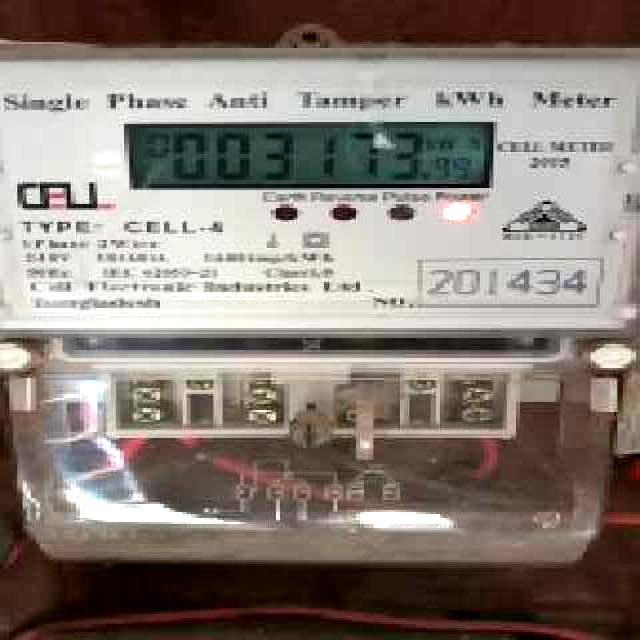LCD: (119, 116, 505, 199)
